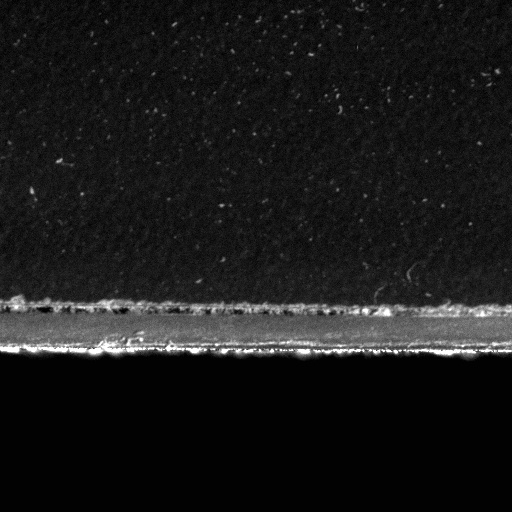jiaofeng: (29, 301, 347, 318)
